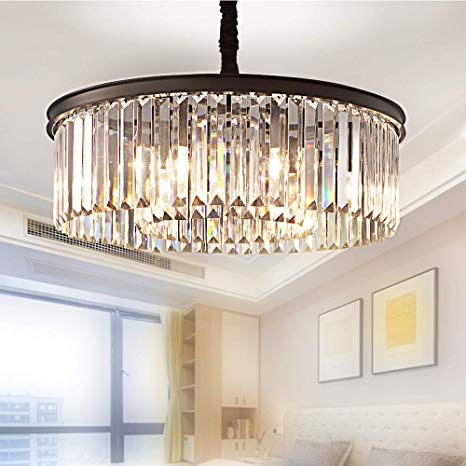chandelier: (32, 1, 431, 265)
